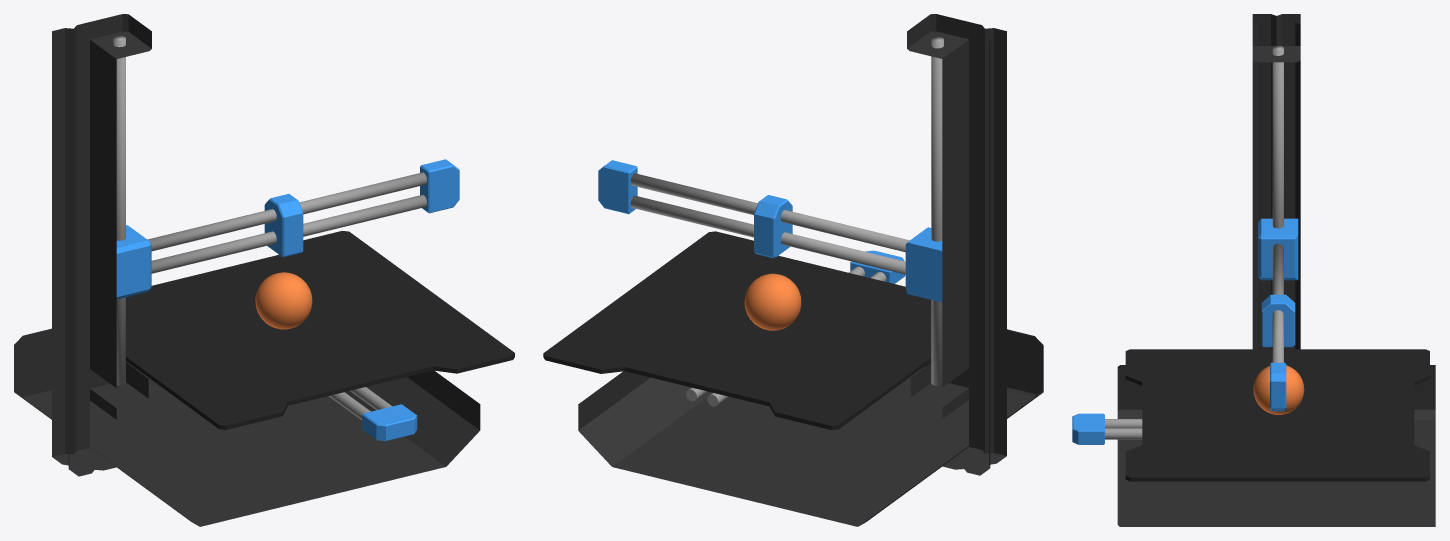
File: printer.glb
3 views of the same model, side by side, from view 1: azimuth 30°, elevation 25°; view 2: azimuth 150°, elevation 25°; view 3: azimuth 270°, elevation 25° (orthographic). The views are drawn at different scales.
Parts seen in each view (by area): view 1: Printer Frame, Printer Bed, XAxisRods, XAxisEnds, ZRod, Sphere, Extruder, YAxisCap, YAxisRods; view 2: Printer Frame, Printer Bed, XAxisRods, XAxisEnds, ZRod, Sphere, Extruder, YAxisRods, YAxisCap; view 3: Printer Bed, Printer Frame, XAxisEnds, ZRod, Extruder, Sphere, XAxisRods, YAxisCap, YAxisRods.
Part boxes in pixels (x1,y1,x2,y2): Printer Frame: (14, 14, 480, 526); Printer Bed: (126, 230, 514, 429); XAxisRods: (147, 172, 426, 273); XAxisEnds: (116, 159, 459, 299); ZRod: (113, 35, 125, 385); Sphere: (255, 272, 312, 329); Extruder: (264, 194, 303, 257); YAxisCap: (362, 404, 417, 441); YAxisRods: (329, 387, 392, 420); Printer Frame: (578, 14, 1043, 526); Printer Bed: (543, 231, 931, 430); XAxisRods: (630, 173, 909, 274); XAxisEnds: (598, 160, 942, 302); ZRod: (931, 37, 943, 385); Sphere: (744, 273, 801, 330); Extruder: (754, 195, 792, 258); YAxisRods: (686, 266, 886, 406); YAxisCap: (850, 250, 905, 283); Printer Bed: (1125, 349, 1429, 481); Printer Frame: (1117, 14, 1435, 526); XAxisEnds: (1258, 218, 1298, 411); ZRod: (1272, 45, 1283, 228); Extruder: (1261, 294, 1295, 347); Sphere: (1253, 365, 1304, 414); XAxisRods: (1272, 243, 1283, 362); YAxisCap: (1072, 413, 1104, 444); YAxisRods: (1105, 419, 1142, 439).
Size of the model in its own units: 1.02 by 1.08 by 0.9188.
